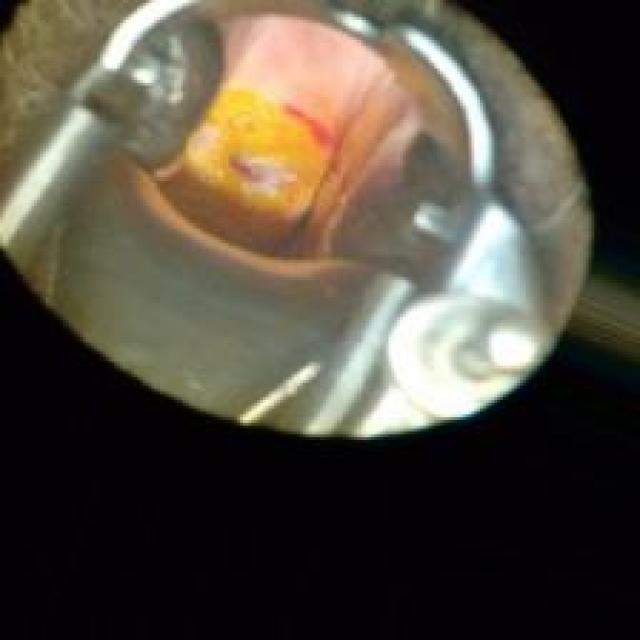type-3: (66, 4, 533, 398)
